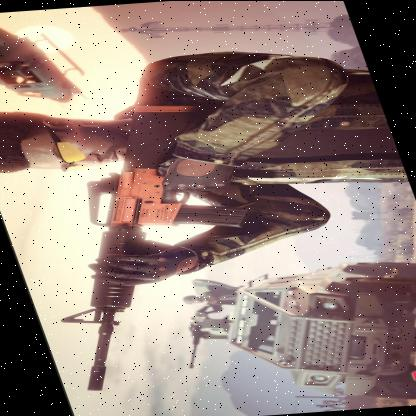rifle: (0, 101, 323, 393)
